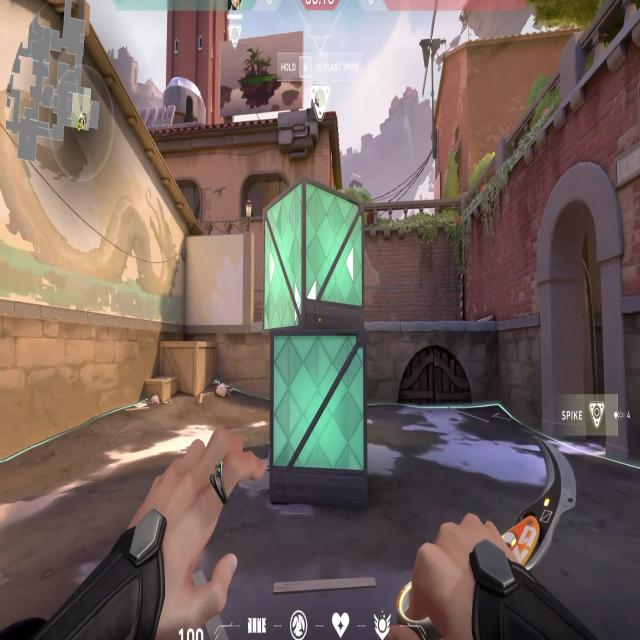B_Boathouse: (525, 152, 630, 474)
B_Site_Box: (244, 173, 382, 535)
